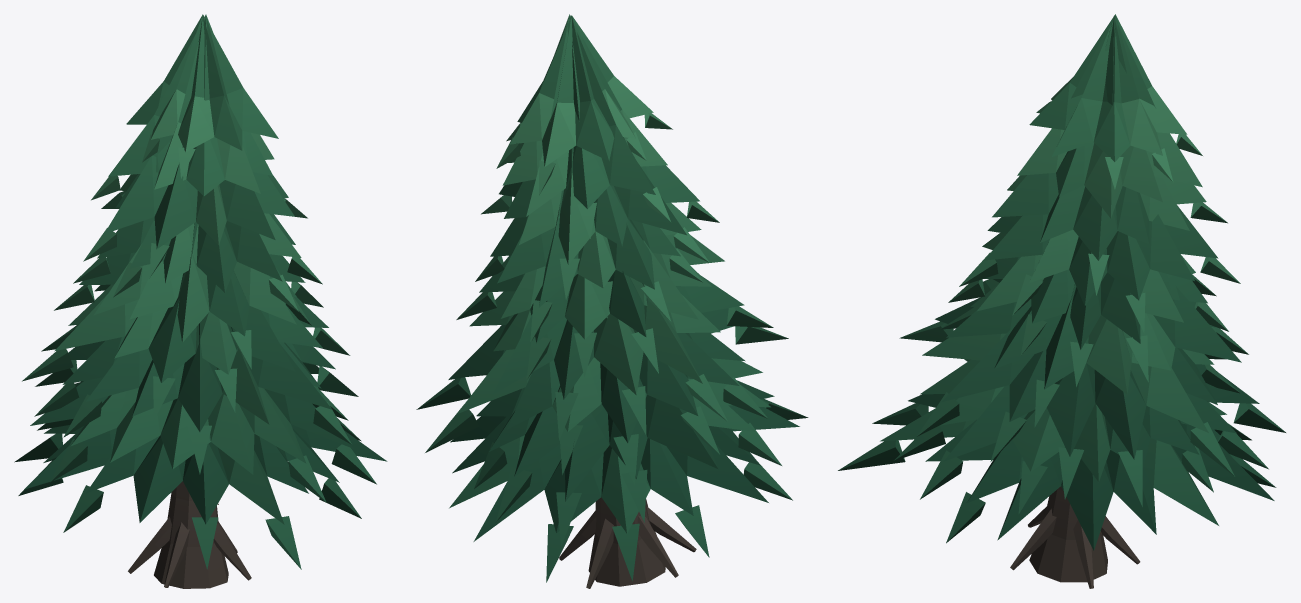
Rendered from SwissPine_A.fbx.
3 views of the same model, side by side, from view 1: azimuth 30°, elevation 25°; view 2: azimuth 150°, elevation 25°; view 3: azimuth 270°, elevation 25° (orthographic). The views are drawn at different scales.
Parts seen in each view (by area): view 1: SwissPine_A_LOD0; view 2: SwissPine_A_LOD0; view 3: SwissPine_A_LOD0.
Part boxes in pixels (x1,y1,x2,y2): SwissPine_A_LOD0: (14, 14, 387, 588); SwissPine_A_LOD0: (416, 14, 808, 588); SwissPine_A_LOD0: (838, 14, 1285, 588).
Size of what is drawn, in the model's own units: 5.89 by 9.51 by 6.8.
1 material, 1 textured.
